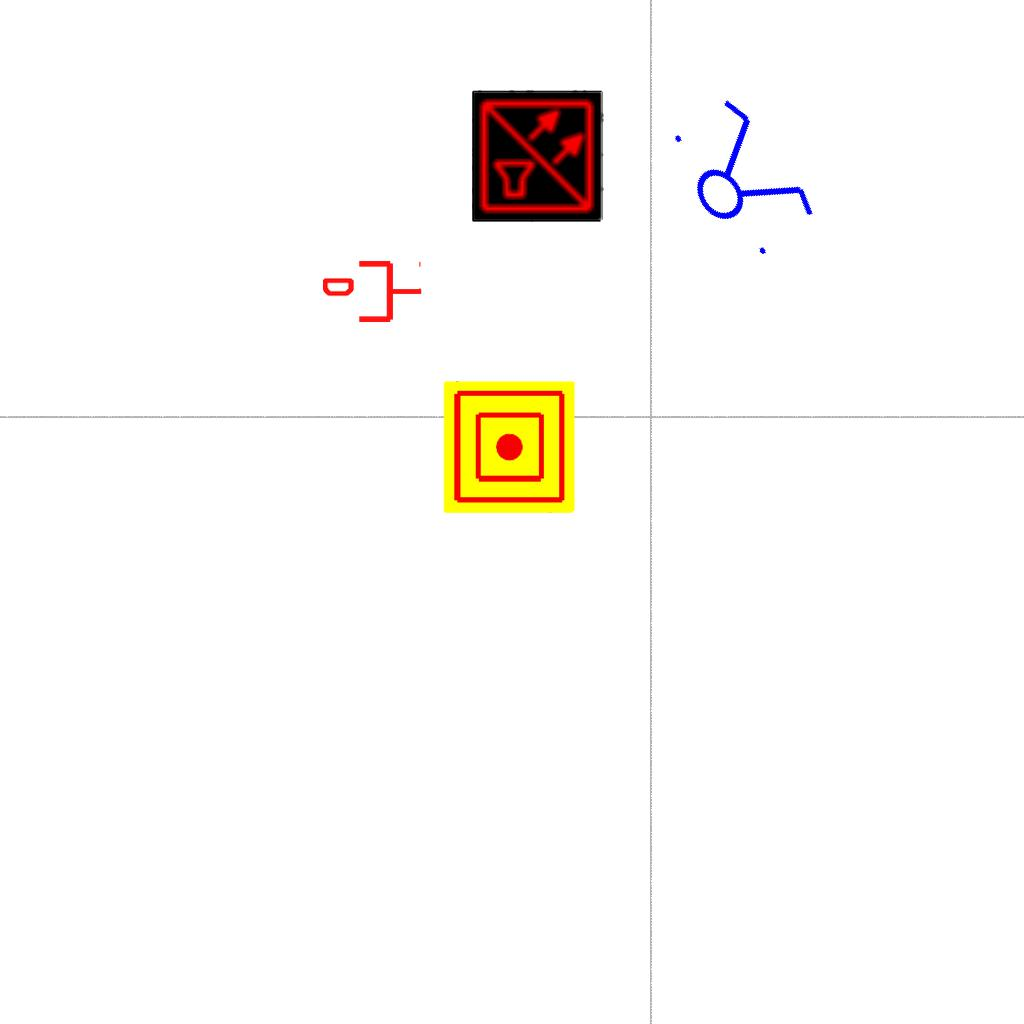Datenanschluss_einfach: (323, 257, 423, 326)
NAM-Nichtautomatischer_Melder: (443, 381, 575, 513)
OKW_Multisensormelder_(Kombination_optischer_Rauch-Kahlenmonoxid_Waerme-Melder): (472, 90, 604, 222)
Serienschalter: (651, 82, 829, 274)
